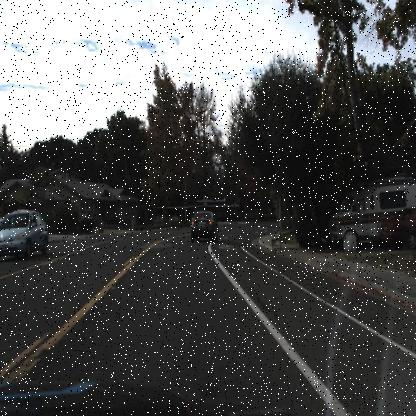car: (327, 173, 416, 255), (0, 209, 50, 262), (192, 211, 217, 242), (77, 206, 99, 234)
truck: (327, 172, 414, 253)
